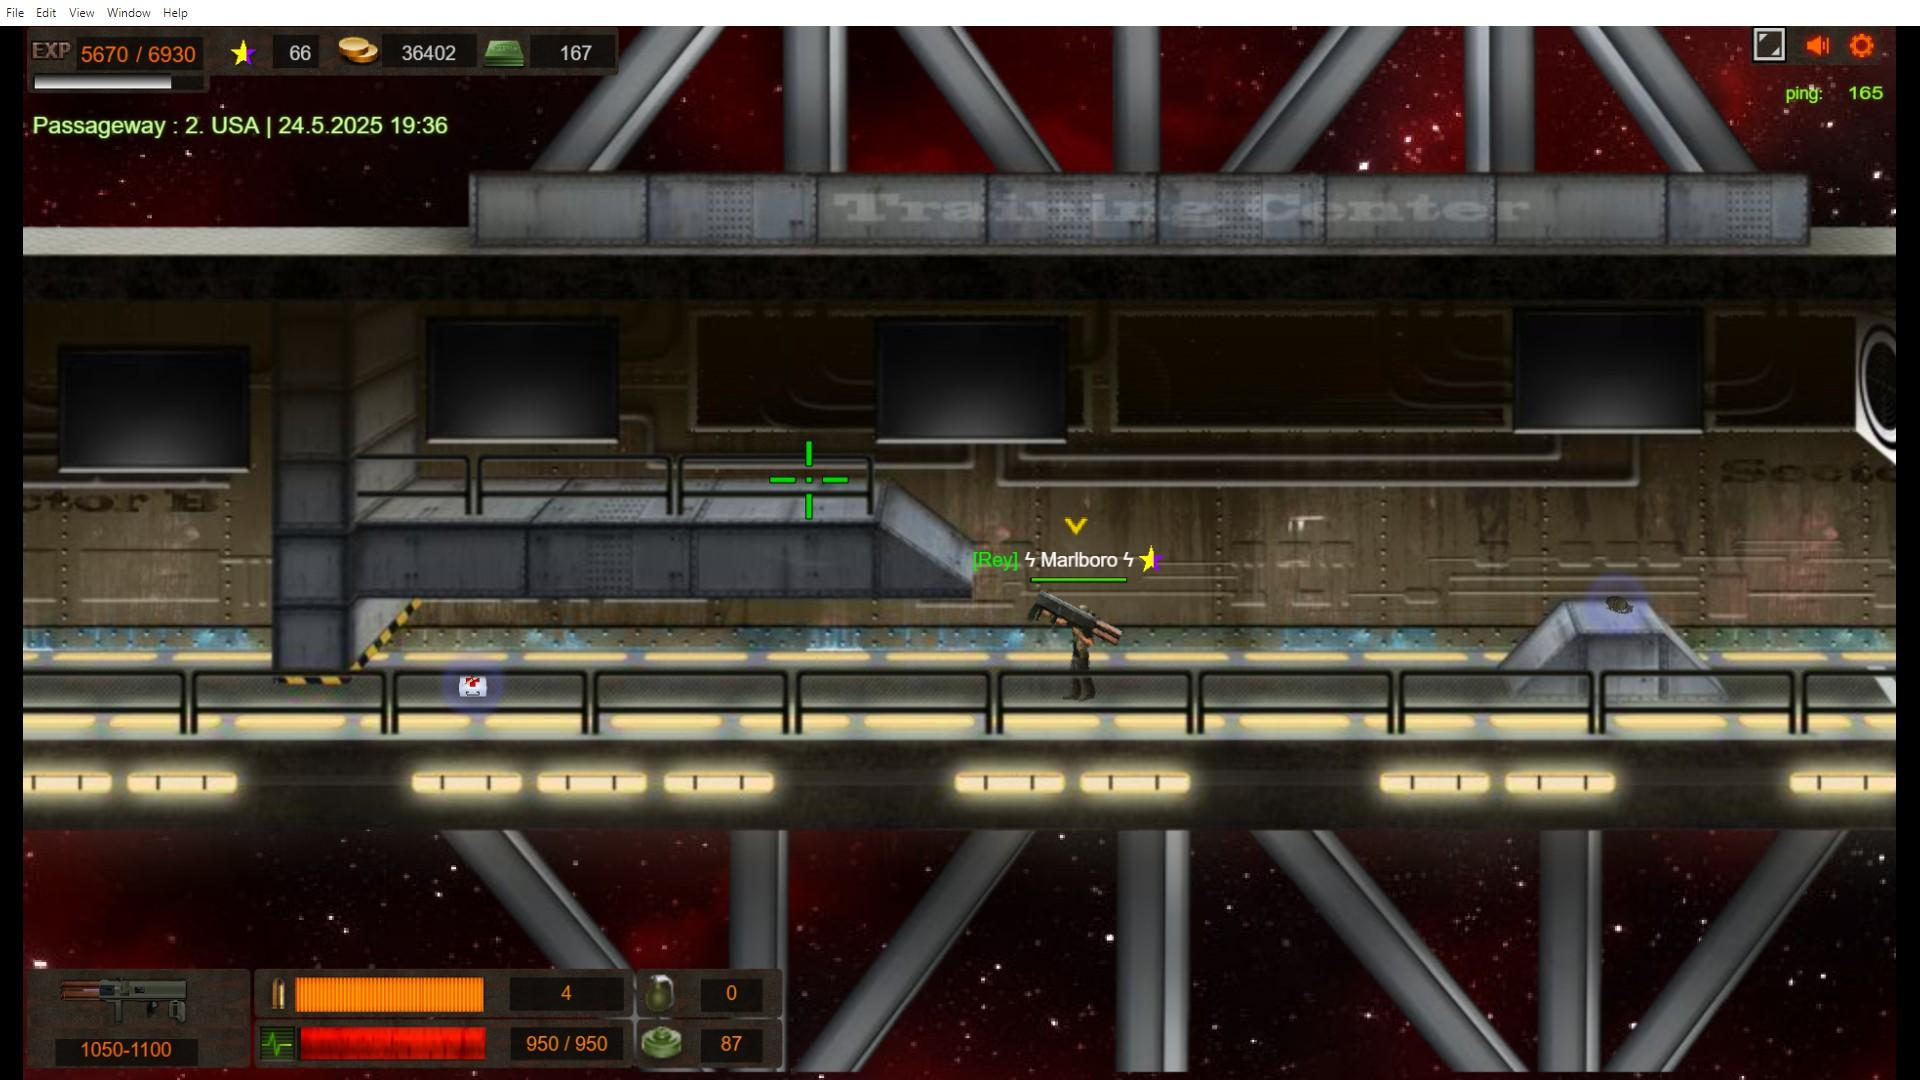enemy: (1069, 603, 1097, 703)
